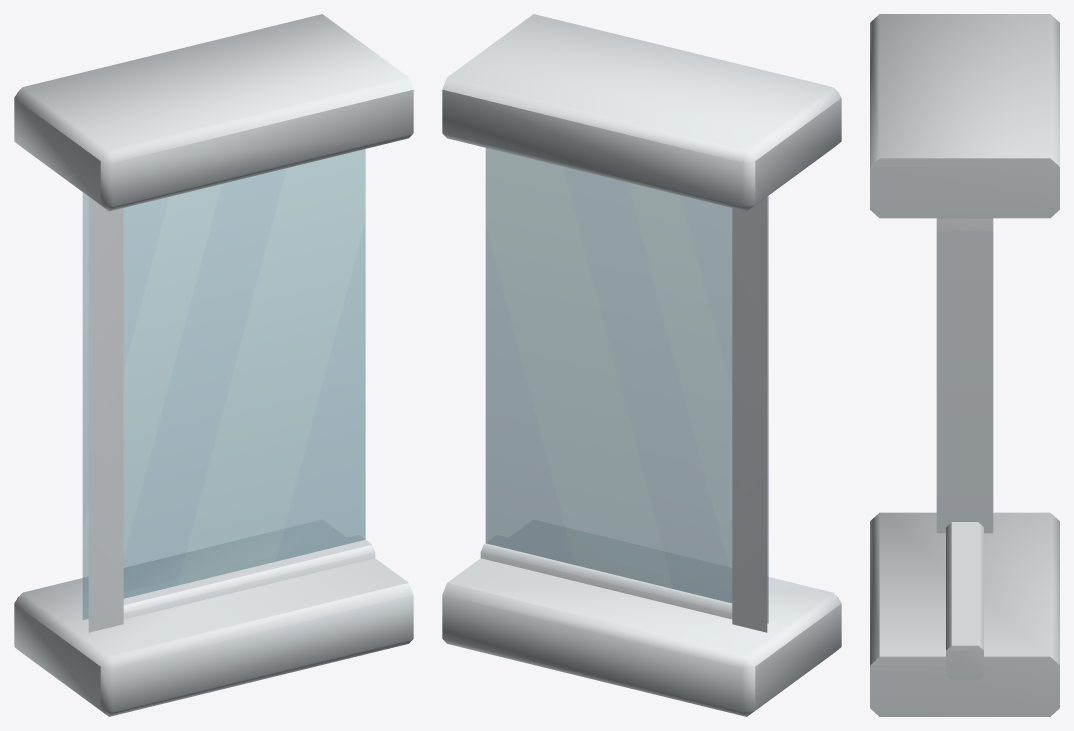
Rendered from window-full-left-modular.glb.
3 renders of one model, left to right at view 1: azimuth 30°, elevation 25°; view 2: azimuth 150°, elevation 25°; view 3: azimuth 270°, elevation 25°, orthographic.
Parts seen in each view (by area): view 1: window_full_left_modular; view 2: window_full_left_modular; view 3: window_full_left_modular.
Boxes of the visible parts, x1,y1,x2,y2 form: window_full_left_modular: [14, 14, 413, 716]; window_full_left_modular: [442, 14, 841, 716]; window_full_left_modular: [870, 14, 1059, 716].
Size of the model in its own units: 1.85 by 3.25 by 1.
2 materials, 2 textured.
